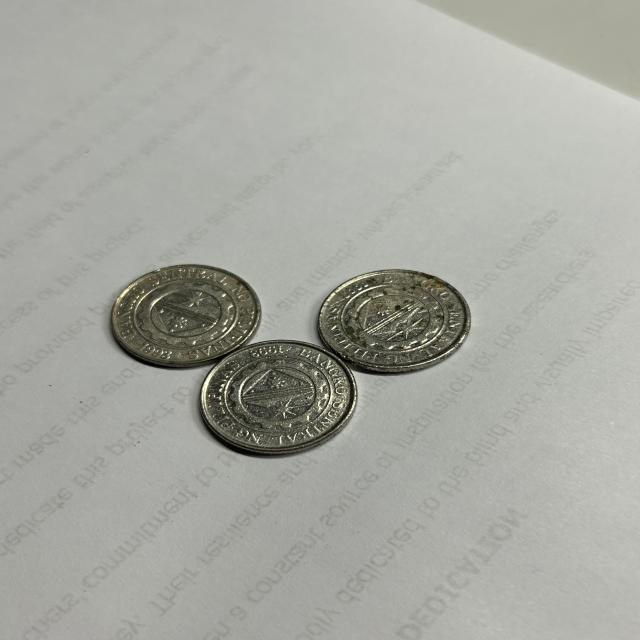1_Old_Back: (224, 352, 337, 435), (124, 279, 239, 353), (335, 284, 447, 353)
